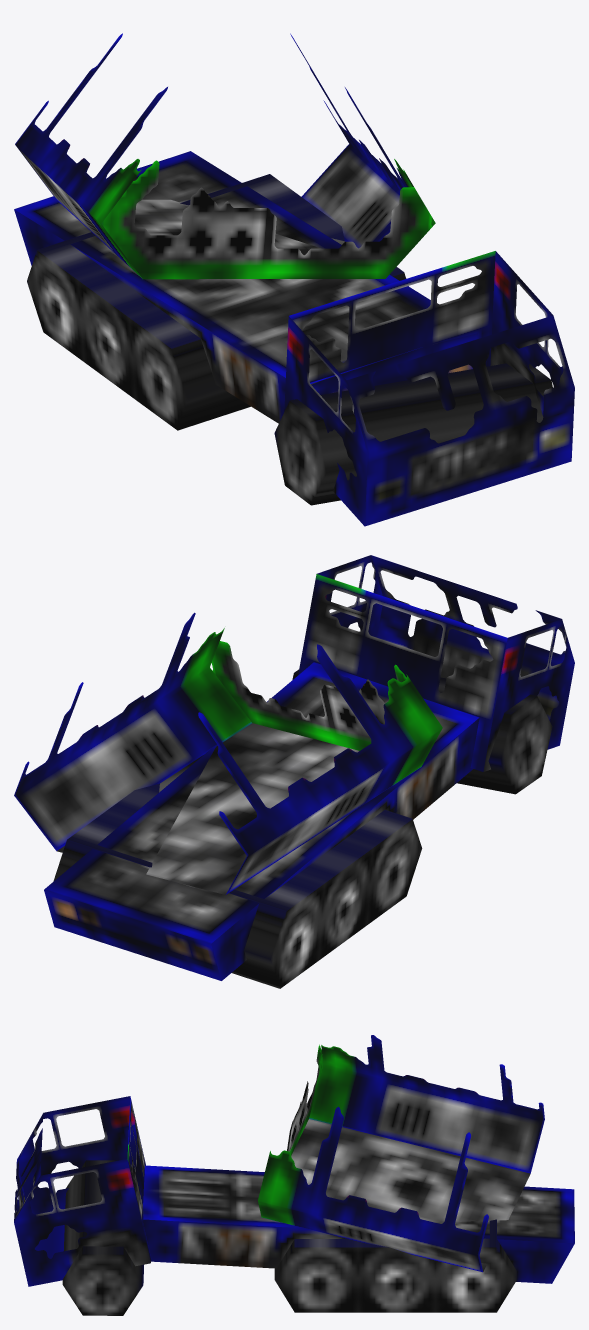
The model's file is swarmlrmc_wreck.glb.
3 views of the same model, one above another, from view 1: azimuth 30°, elevation 25°; view 2: azimuth 150°, elevation 25°; view 3: azimuth 270°, elevation 25° (orthographic). The views are drawn at different scales.
Visible parts, largest first — view 1: SRM_Pack; view 2: SRM_Pack; view 3: SRM_Pack.
Part boxes in pixels (left/top/right/bottom): SRM_Pack: left=14, top=33, right=574, bottom=526; SRM_Pack: left=14, top=555, right=574, bottom=988; SRM_Pack: left=14, top=1035, right=574, bottom=1315.
Size of the model in its own units: 4.54 by 3.9 by 8.33.
1 material, 1 textured.
